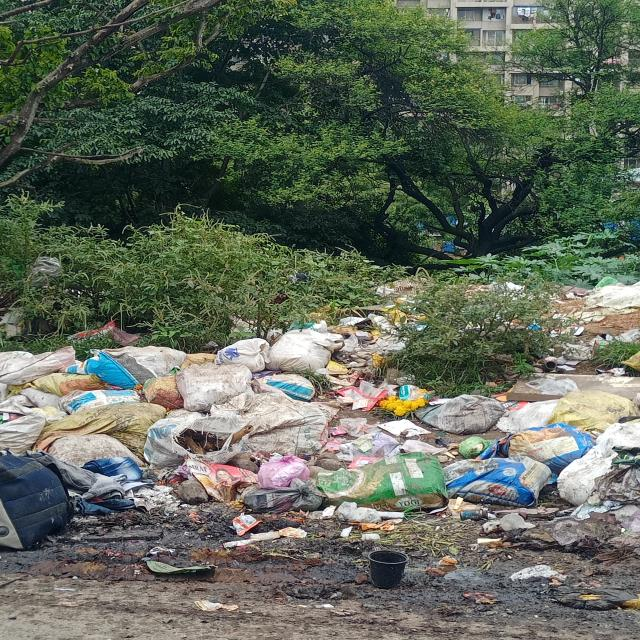garbage: (3, 326, 364, 549), (382, 274, 640, 581)
